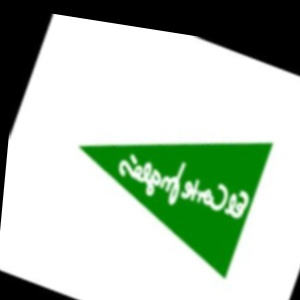corte_ingles: (251, 74, 300, 138)
